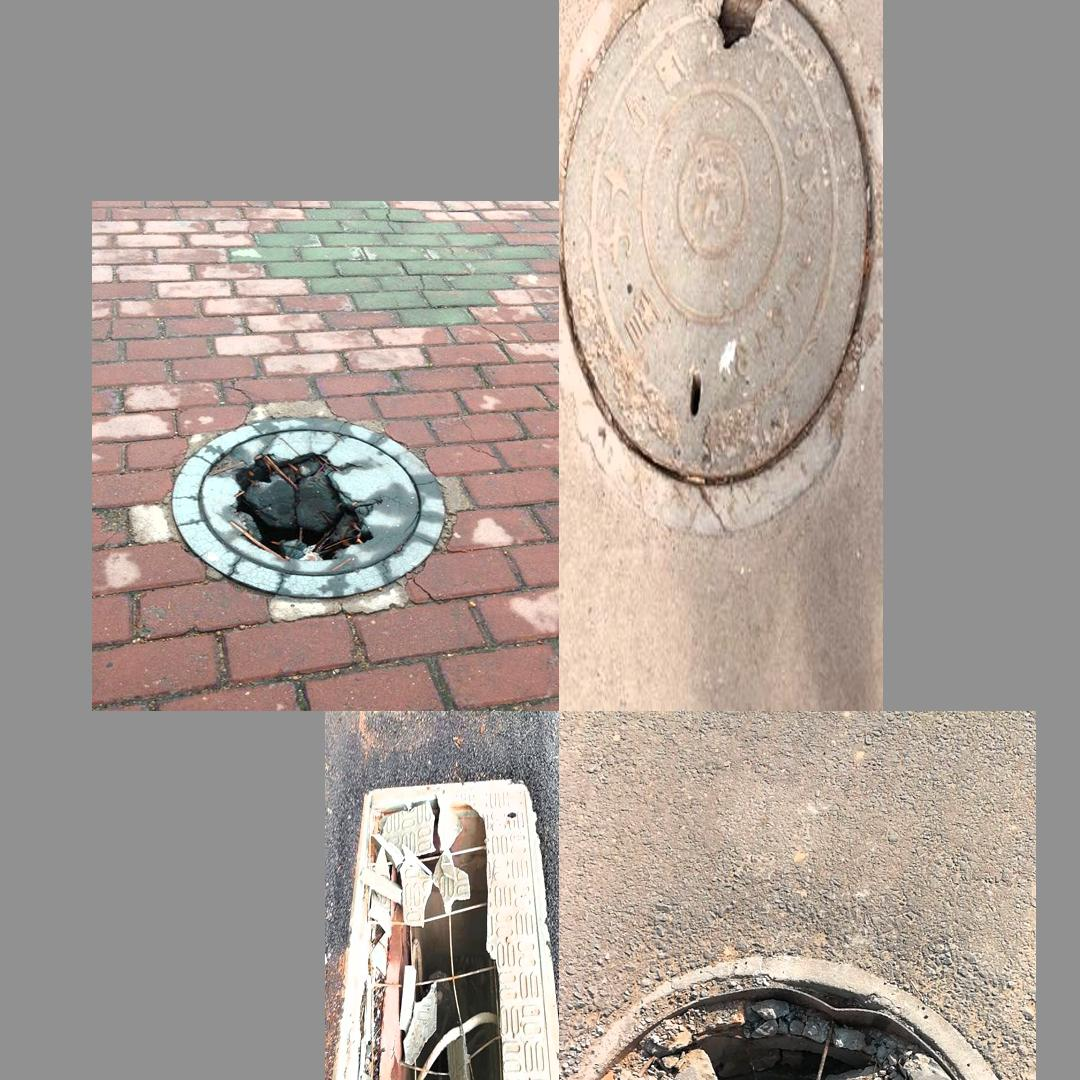broke: (561, 0, 878, 528), (330, 762, 557, 1080), (153, 407, 457, 599), (559, 959, 1036, 1080)
